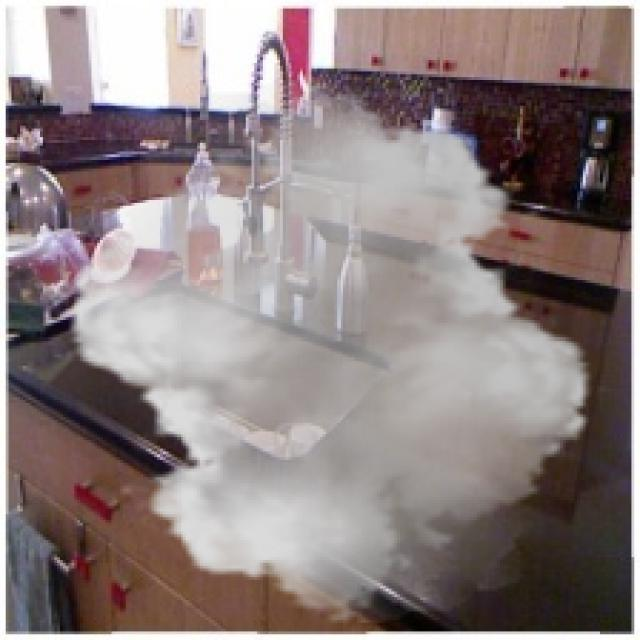smoke: (49, 80, 612, 623)
